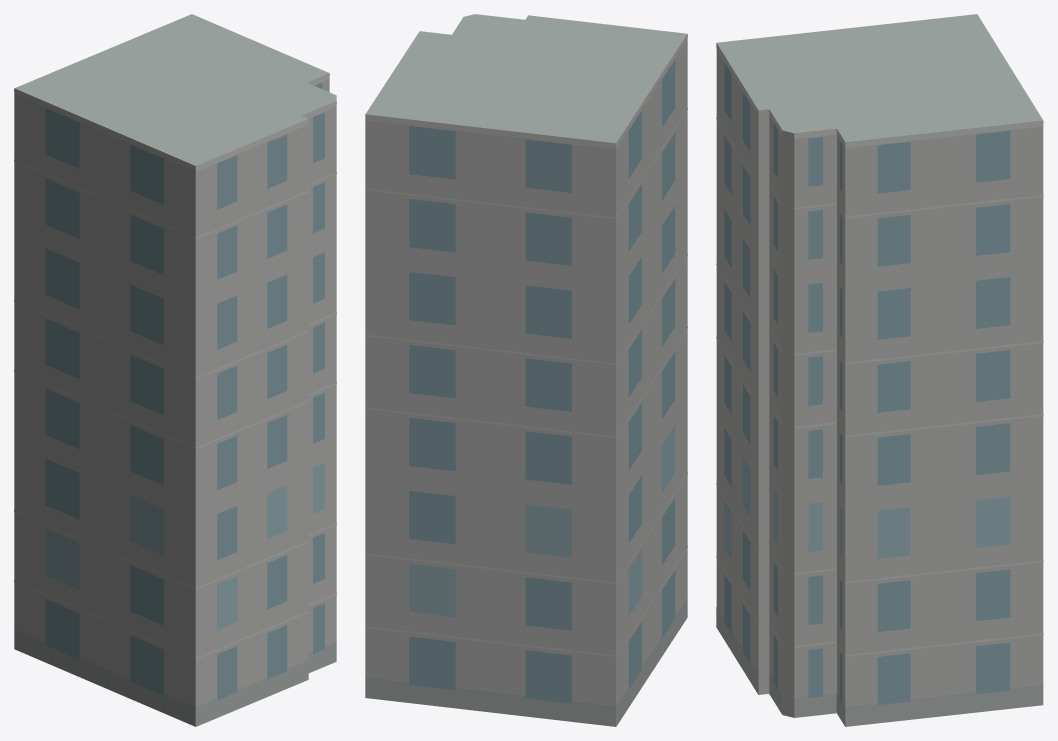
File: survey-upis-32665195.glb
3 renders of one model, left to right at view 1: azimuth 30°, elevation 25°; view 2: azimuth 150°, elevation 25°; view 3: azimuth 270°, elevation 25°, orthographic. The views are drawn at different scales.
Visible parts, largest first — view 1: survey-upis-32665195.tmp; view 2: survey-upis-32665195.tmp; view 3: survey-upis-32665195.tmp.
Boxes of the visible parts, x1,y1,x2,y2 form: survey-upis-32665195.tmp: (14, 14, 336, 726); survey-upis-32665195.tmp: (365, 14, 687, 726); survey-upis-32665195.tmp: (716, 14, 1043, 726).
Size of the model in its own units: 11.36 by 24.1 by 12.24.
